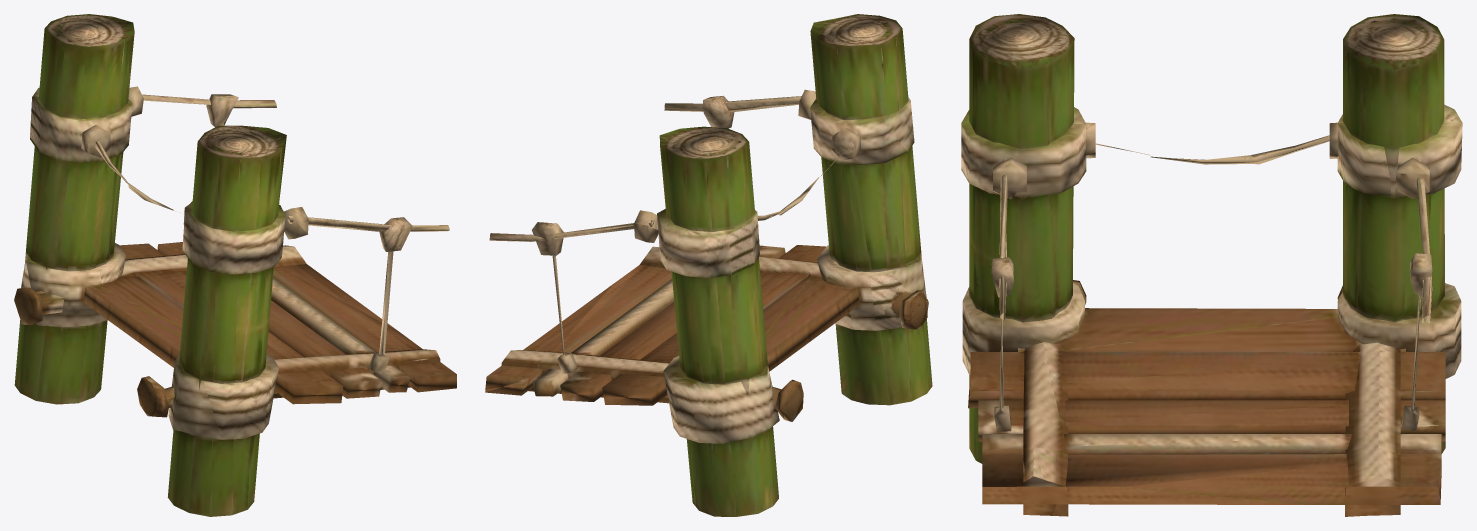
File: BridgeEnd.fbx
3 renders of one model, left to right at view 1: azimuth 30°, elevation 25°; view 2: azimuth 150°, elevation 25°; view 3: azimuth 270°, elevation 25°, orthographic. The views are drawn at different scales.
Visible parts, largest first — view 1: BridgeEnd; view 2: BridgeEnd; view 3: BridgeEnd.
Part boxes in pixels (x1=…): BridgeEnd: x1=14, y1=14, x2=456, y2=516; BridgeEnd: x1=485, y1=14, x2=932, y2=516; BridgeEnd: x1=961, y1=14, x2=1462, y2=516.
Bounding box in the file's own units: 1.1 × 1.35 × 1.41.
Materials: 1 (1 with a texture image).
